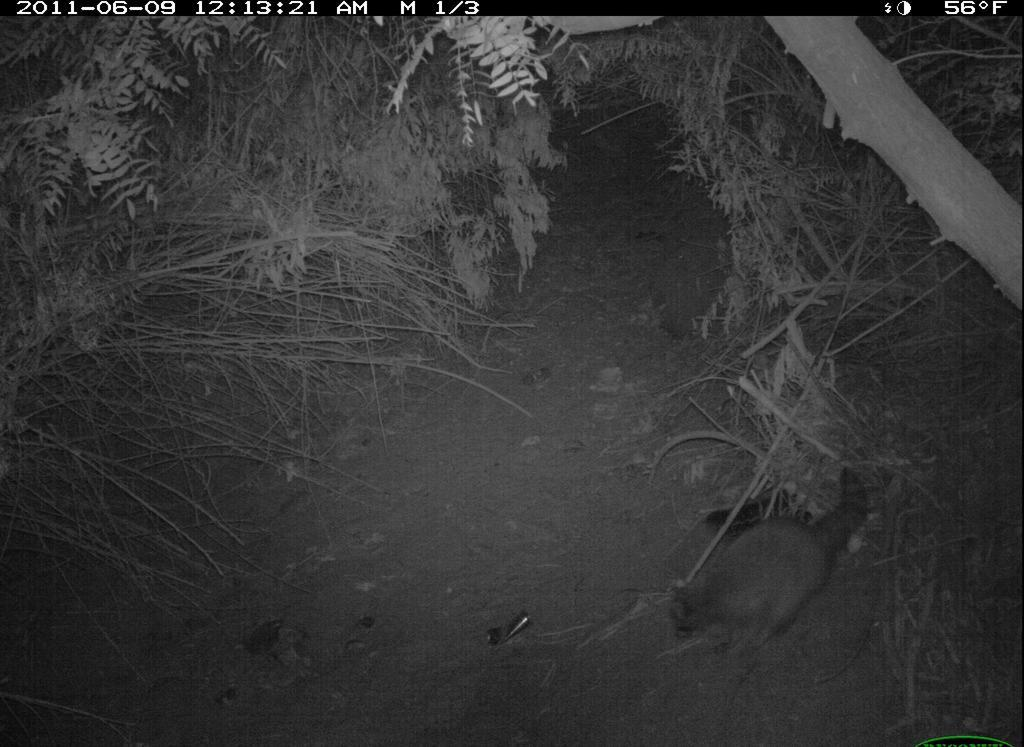raccoon: (649, 457, 867, 678)
